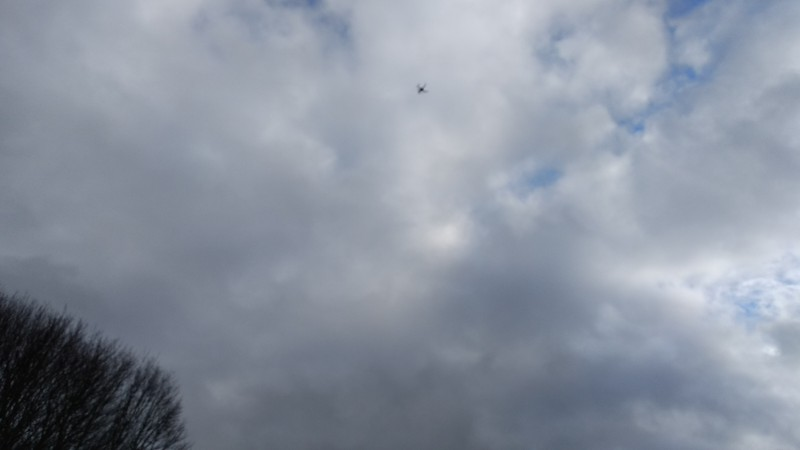drone: (417, 84, 428, 94)
